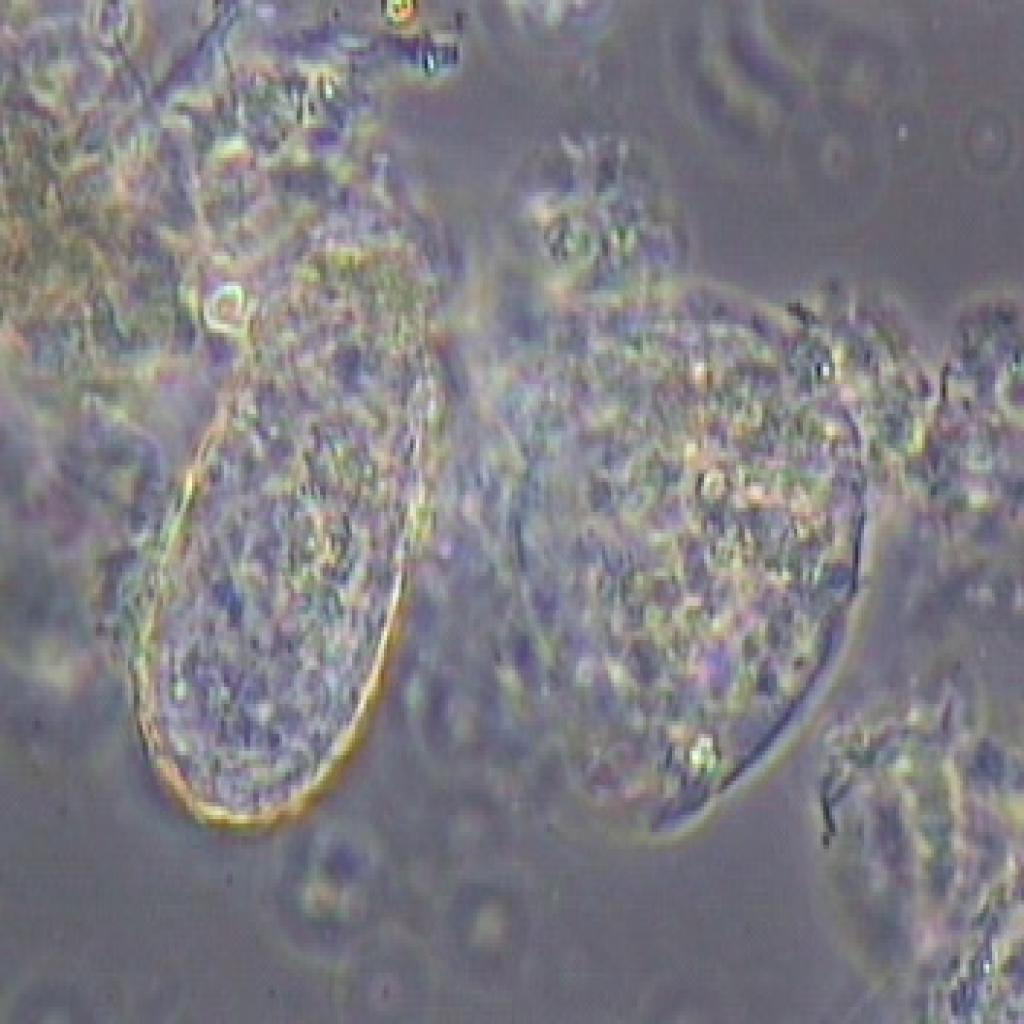Euglypha: (138, 228, 458, 826)
